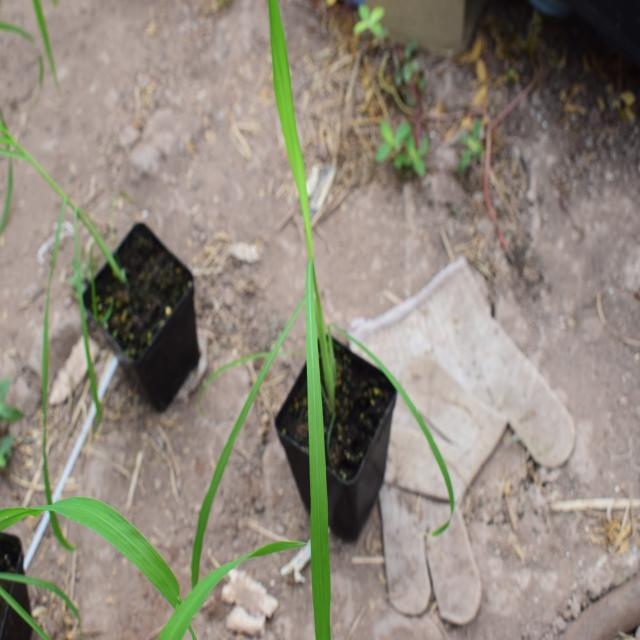barnyard_grass: (196, 39, 456, 581)
